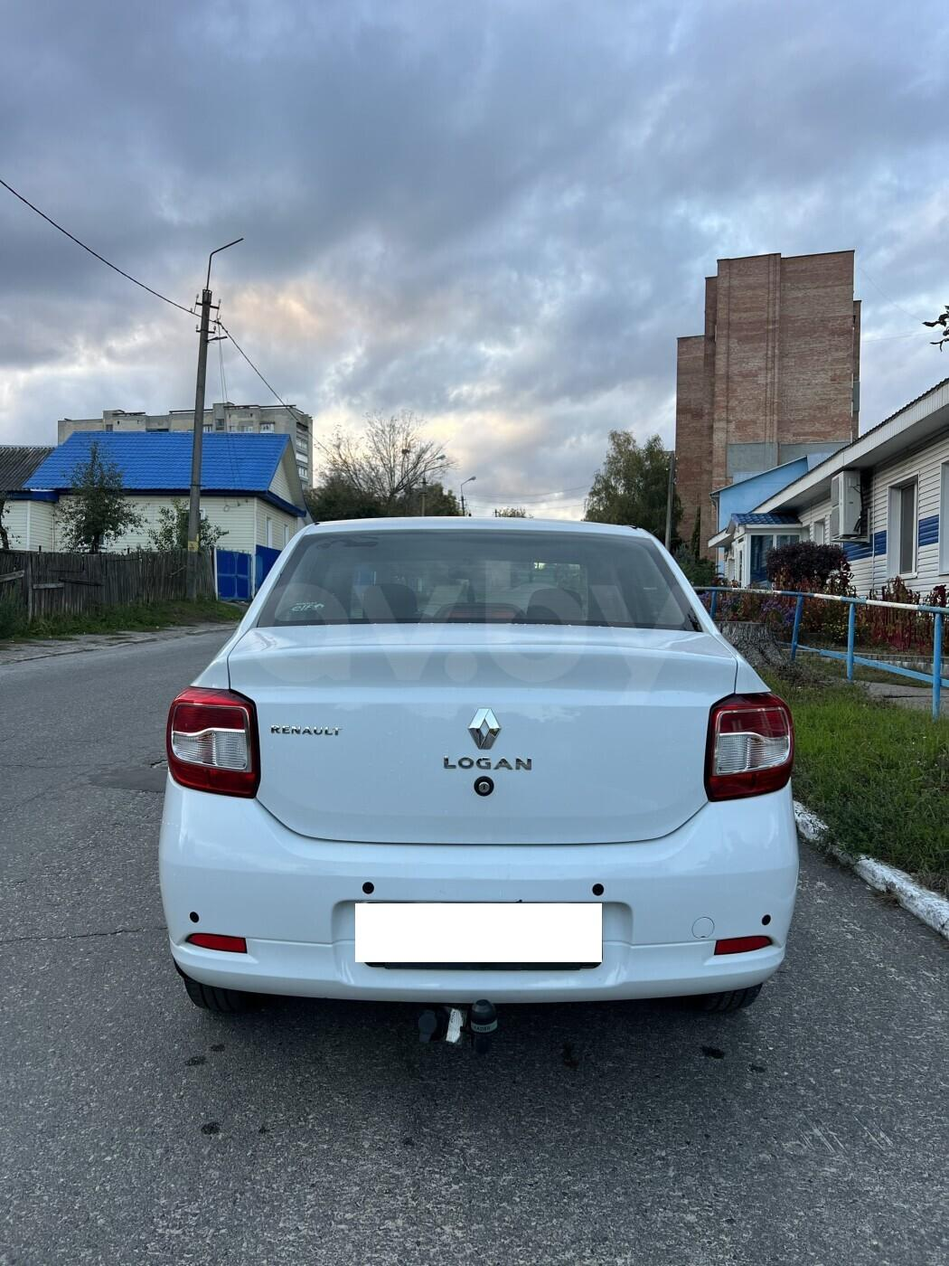Logan_2013-2018: (154, 508, 839, 1063)
